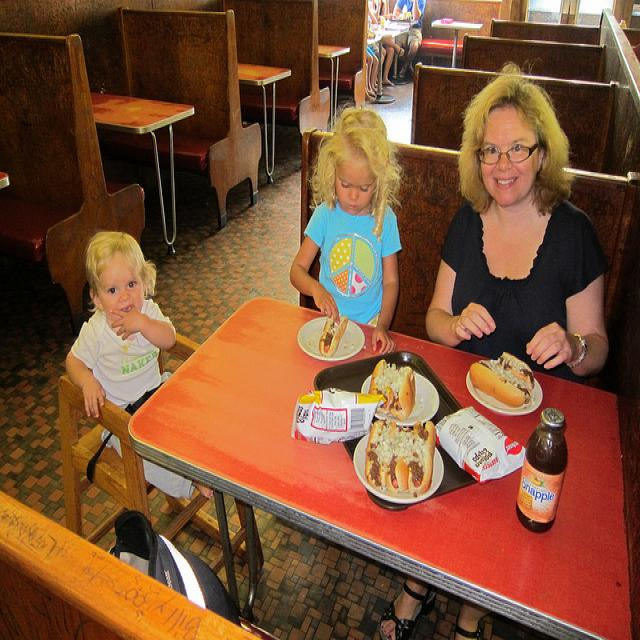chair: (58, 332, 203, 545), (160, 493, 223, 543), (417, 37, 463, 66)
dining table: (124, 296, 640, 631), (90, 90, 195, 254), (238, 63, 292, 183), (367, 3, 412, 102), (318, 43, 351, 129), (431, 18, 484, 66), (0, 172, 10, 189)
